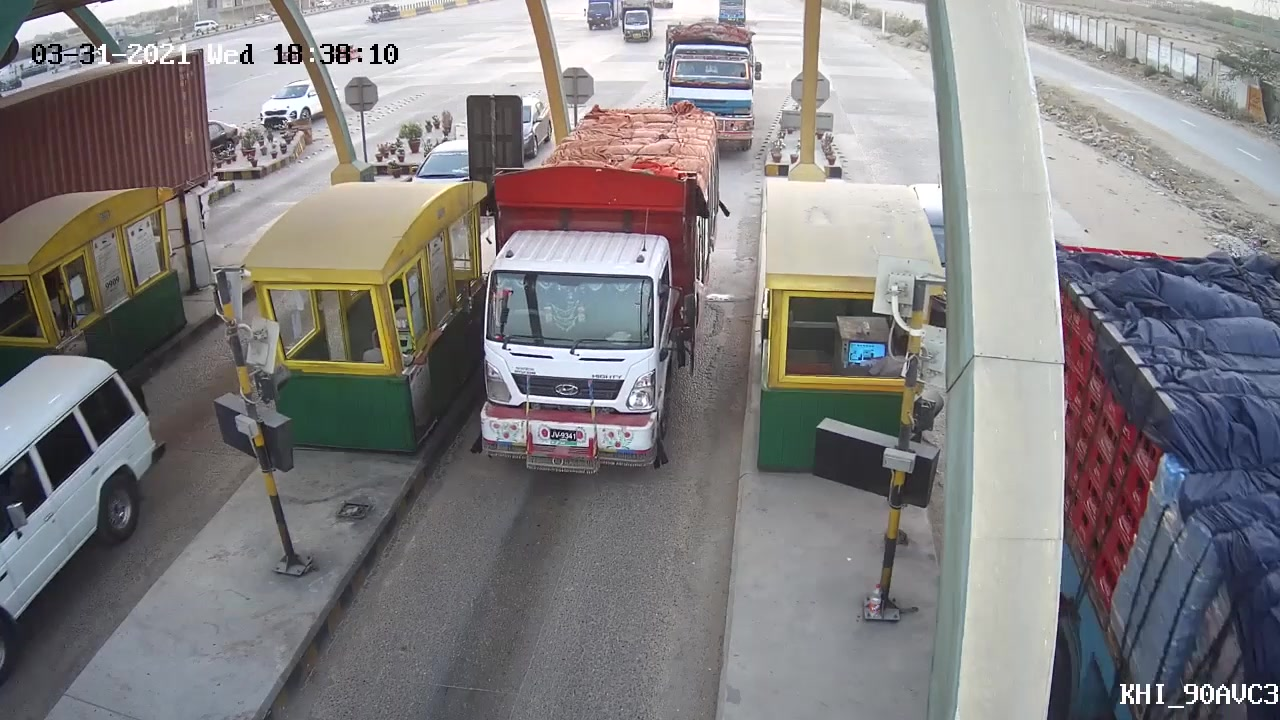F5: (465, 94, 731, 480)
